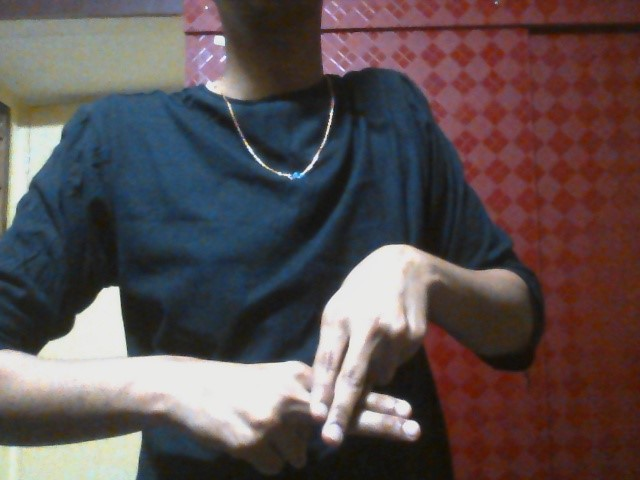F: (183, 260, 422, 477)
